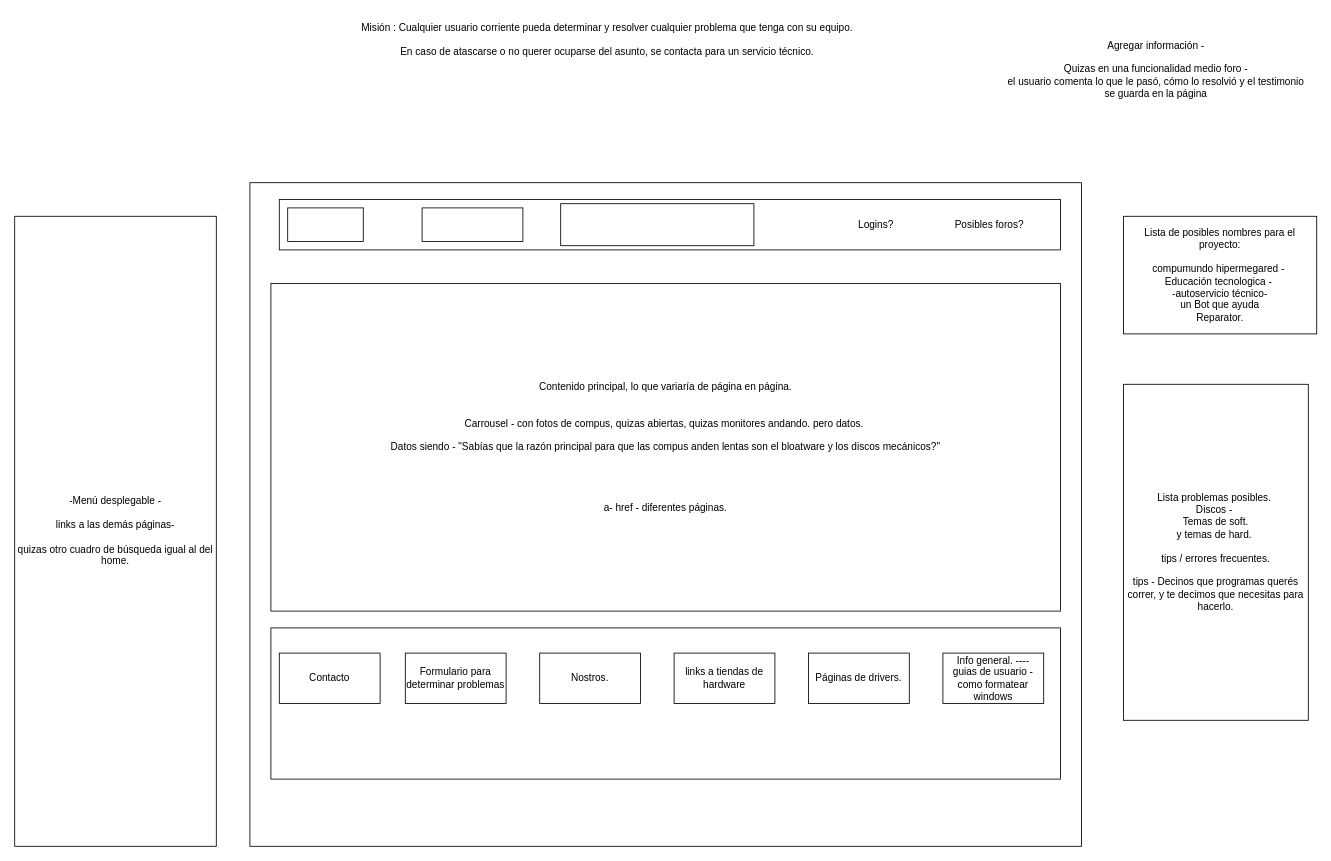
Image size: 1331x861. Some labels were removed from this diagram. The centre of each missing label's shape, as x and y in pixels:
"Abrir menú" belongs at point 325,224.
"Cuadro de búsqueda." belongs at point 657,224.
"logo" belongs at point 472,224.
